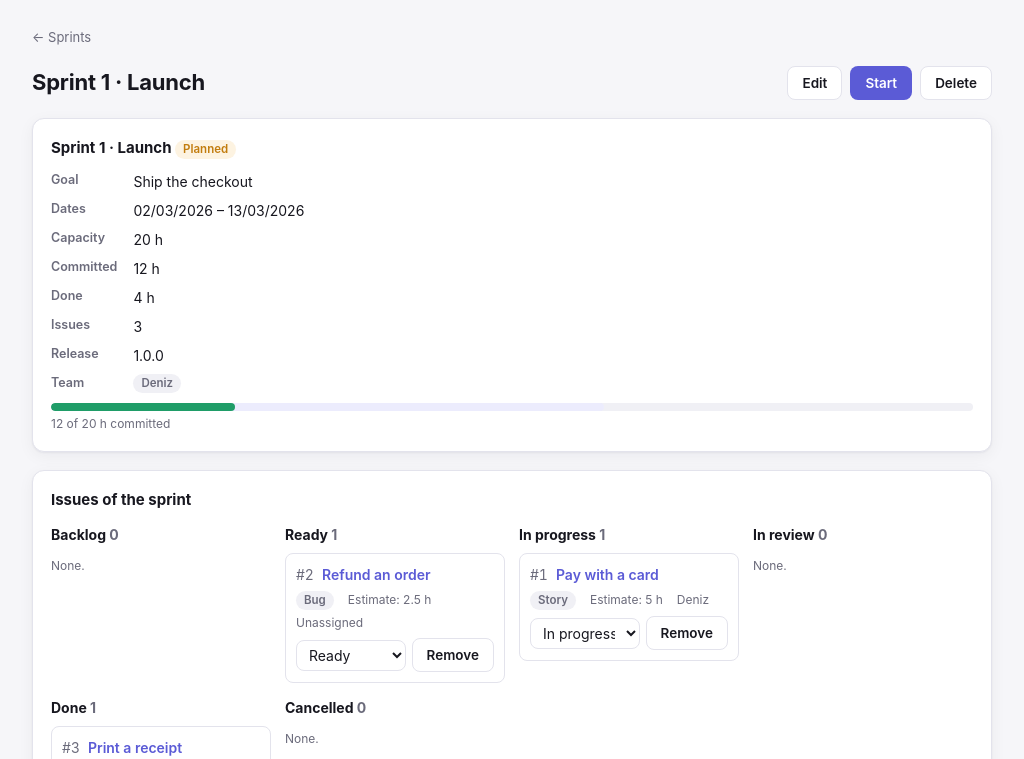
Test case: the sprint page: status and removing › shows the refusal of a removal
Click the button with aria-label "Remove #2 from the sprint".
click(453, 655)  # box [412,638,494,672]
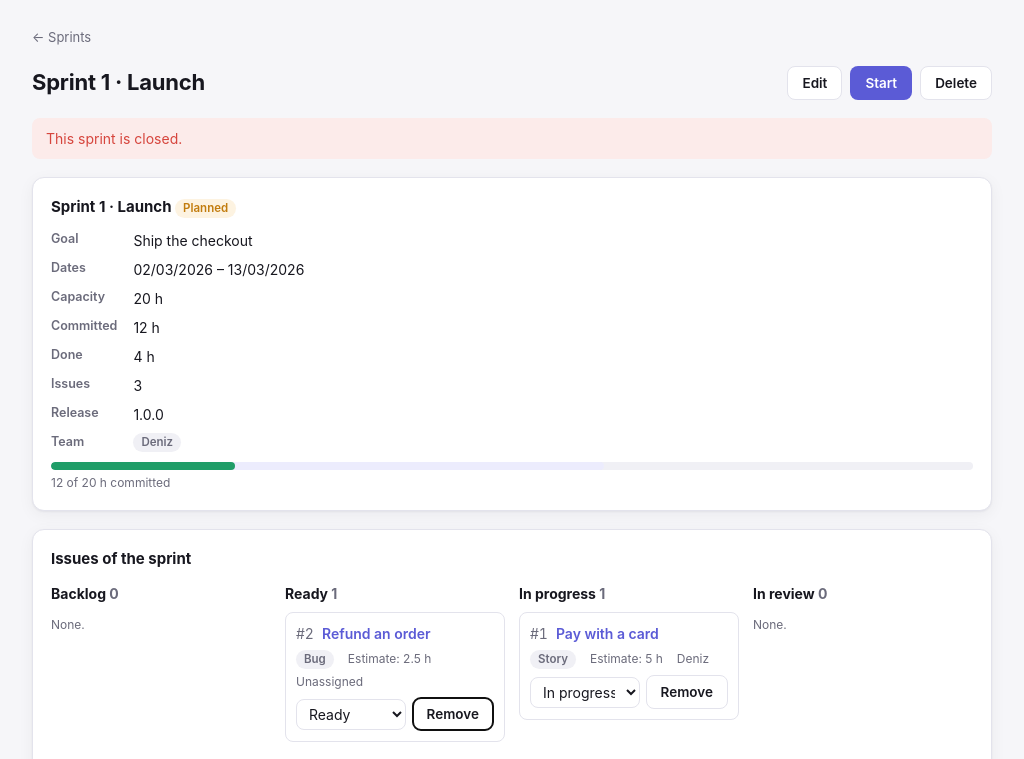
Result: the text "This sprint is closed." is shown at [32,118,992,158]
